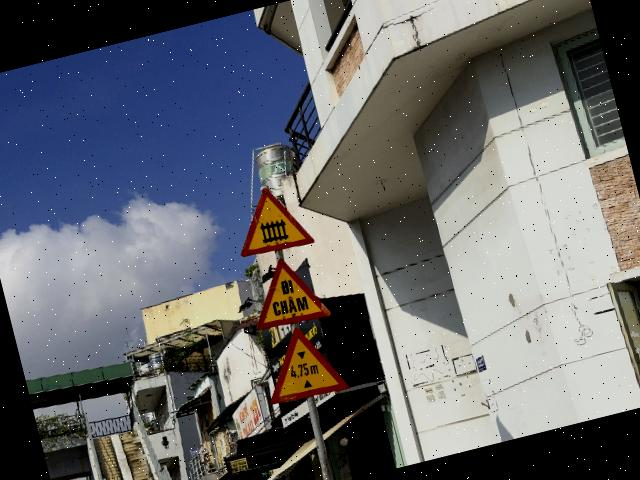chieu-cao-tinh-khong-thuc-te: (253, 317, 349, 408)
di-cham: (240, 248, 332, 334)
noi-giao-nhau-voi-duong-sat-co-rao-chan: (226, 178, 315, 260)
